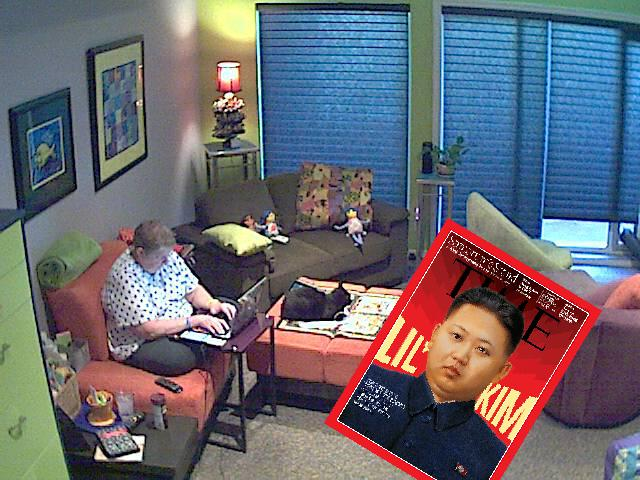times: (324, 218, 601, 479)
